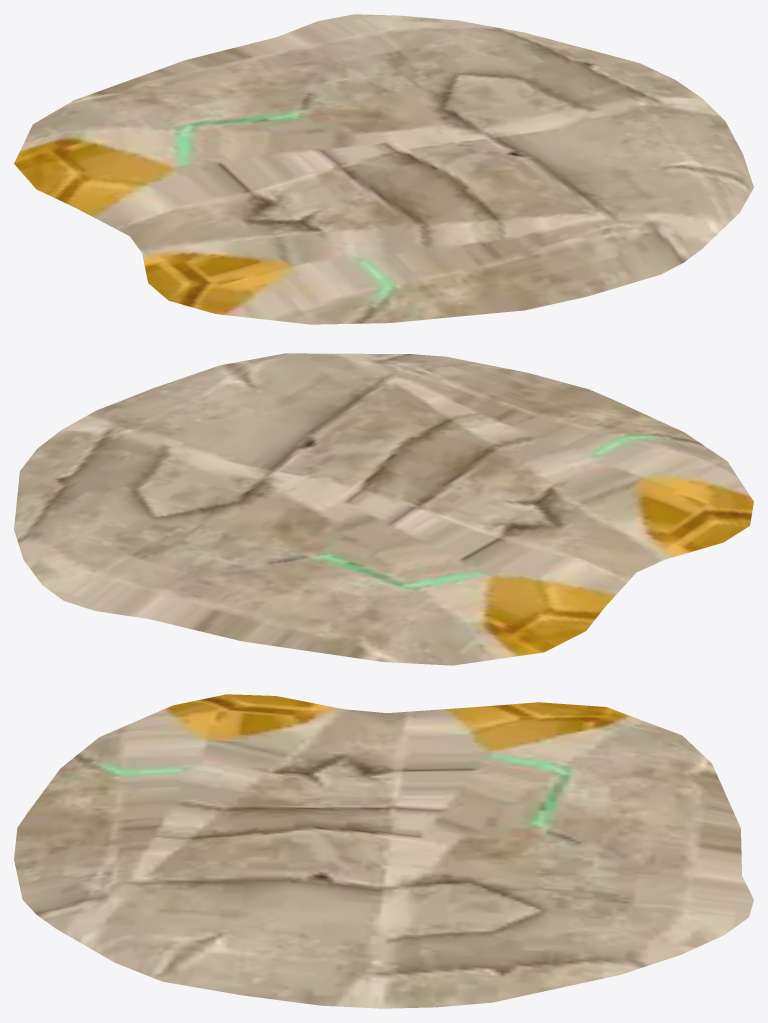
The picture shows the model from 3 angles, top to bottom: view 1: azimuth 30°, elevation 25°; view 2: azimuth 150°, elevation 25°; view 3: azimuth 270°, elevation 25°; orthographic projection. The views are drawn at different scales.
Visible parts, largest first — view 1: SM_Vault_Shard_01_LOD0; view 2: SM_Vault_Shard_01_LOD0; view 3: SM_Vault_Shard_01_LOD0.
Boxes of the visible parts, <box> form: SM_Vault_Shard_01_LOD0: <box>14,14,753,324</box>; SM_Vault_Shard_01_LOD0: <box>14,353,753,665</box>; SM_Vault_Shard_01_LOD0: <box>14,694,753,1008</box>.
Size of the model in its own units: 2.84 by 0.1186 by 2.83.
